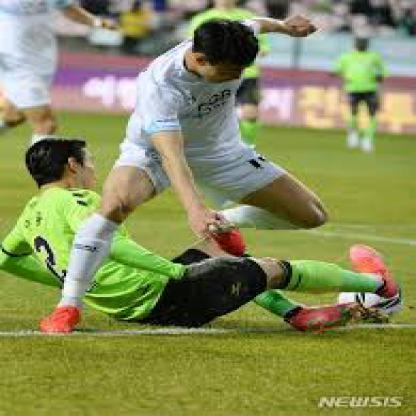Fall_Down: (0, 134, 402, 332)
